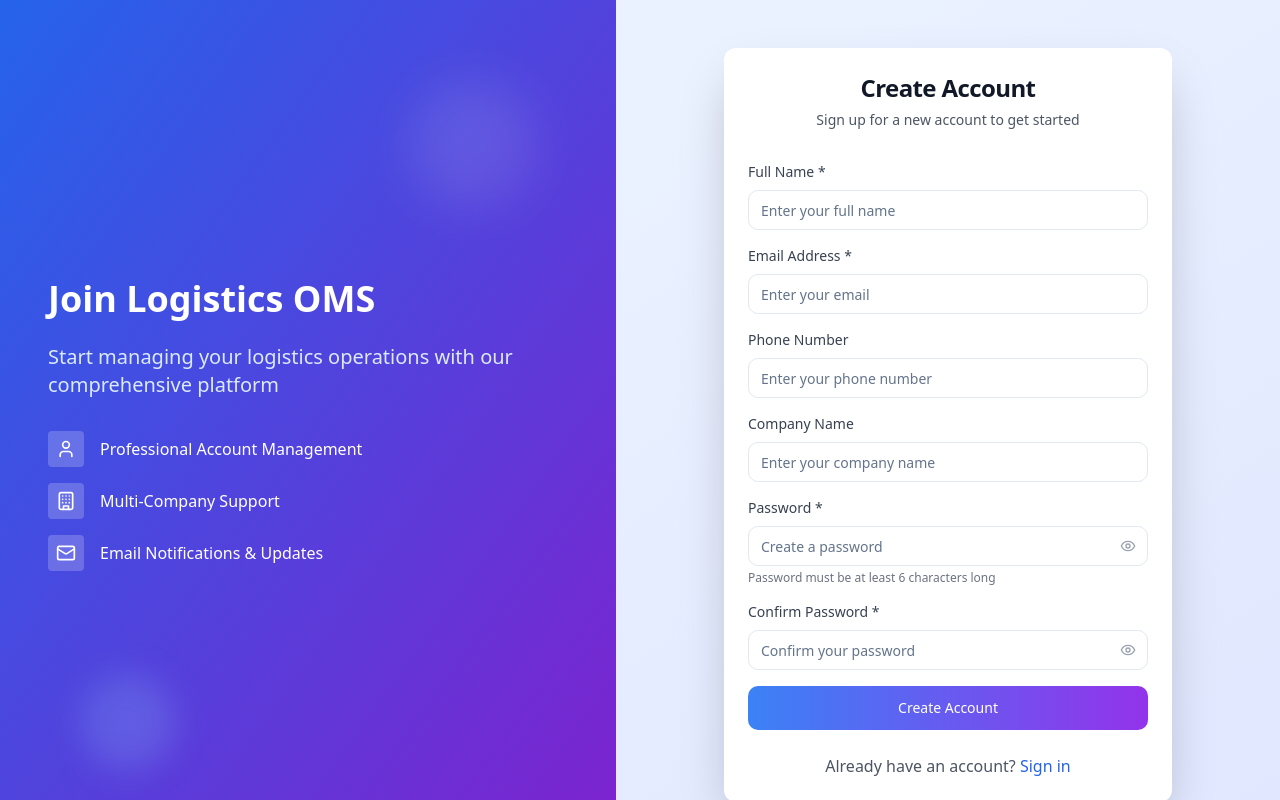
Test: Register Component - All Elements and Buttons › Submit Button Tests › shows loading state when submitting
Note: Fill form with valid data
Step 1. Type "John Doe" into the field with placeholder "Enter your full name" → [948, 210], box 748,190 -> 1148,230
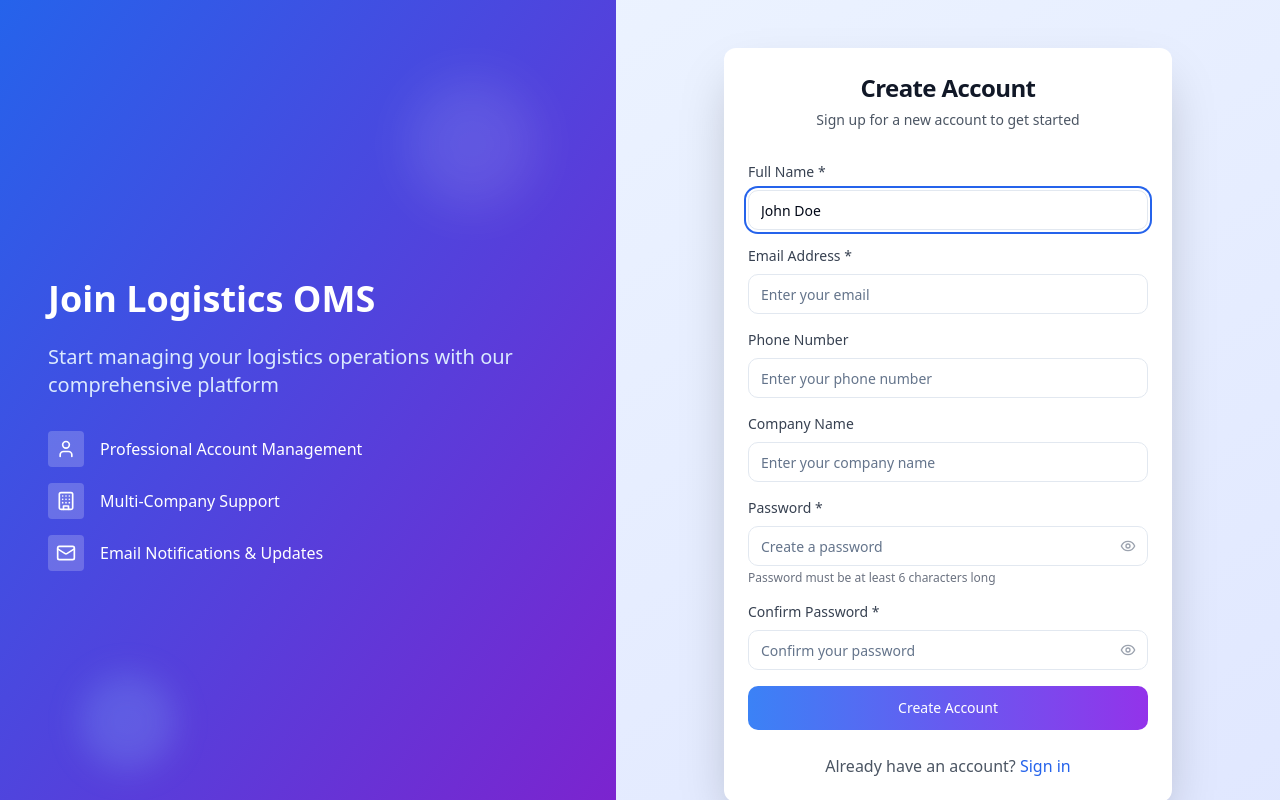
Step 2. Type "john@example.com" into the field with placeholder "Enter your email" → [948, 294], box 748,274 -> 1148,314
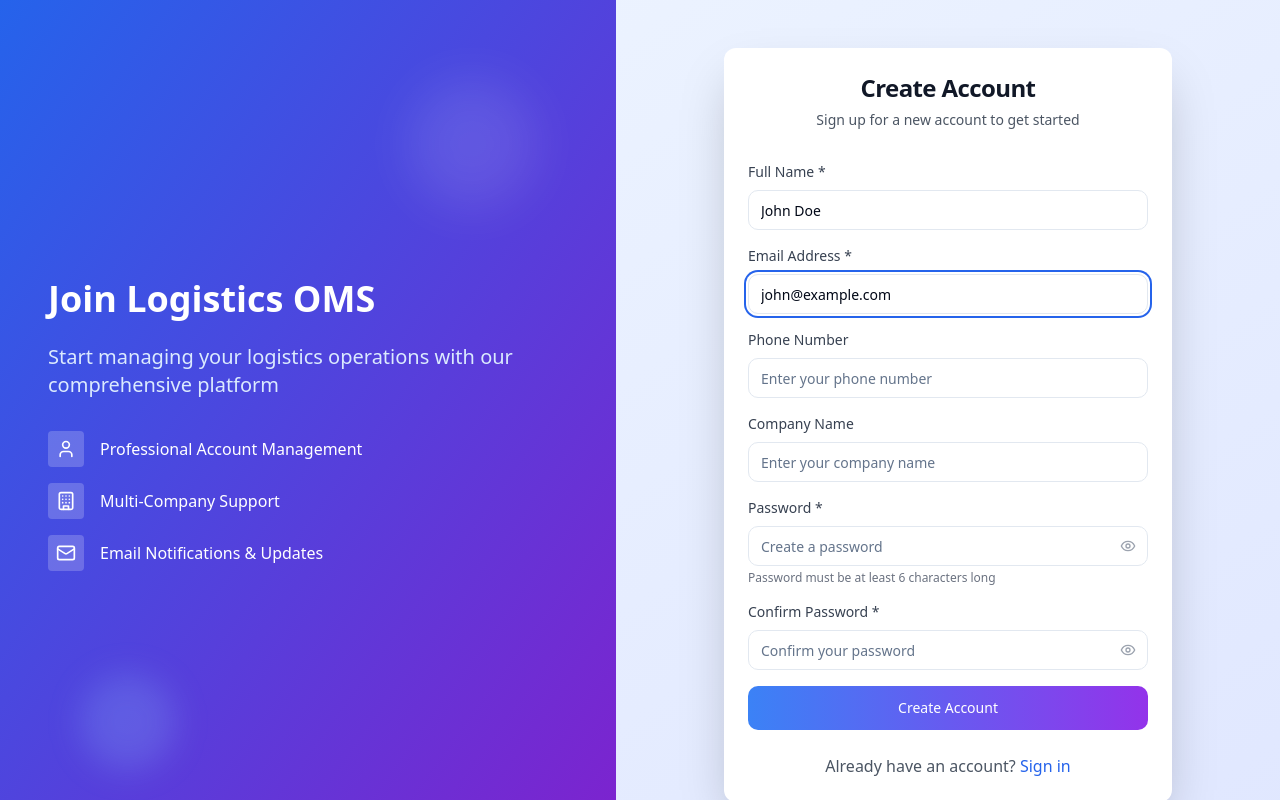
Step 3. Type "password123" into the password field with placeholder "Create a password" → [948, 546], box 748,526 -> 1148,566
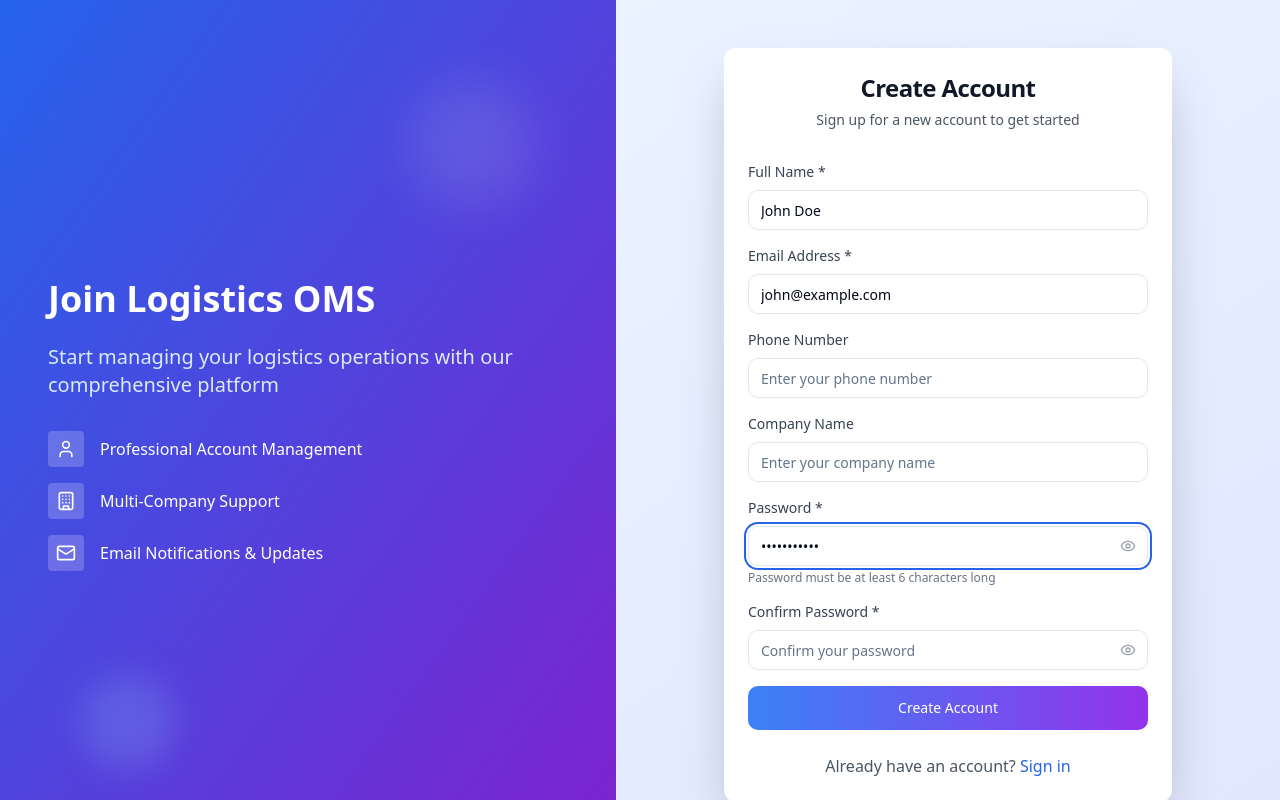
Step 4. Type "password123" into the password field with placeholder "Confirm your password" → [948, 650], box 748,630 -> 1148,670
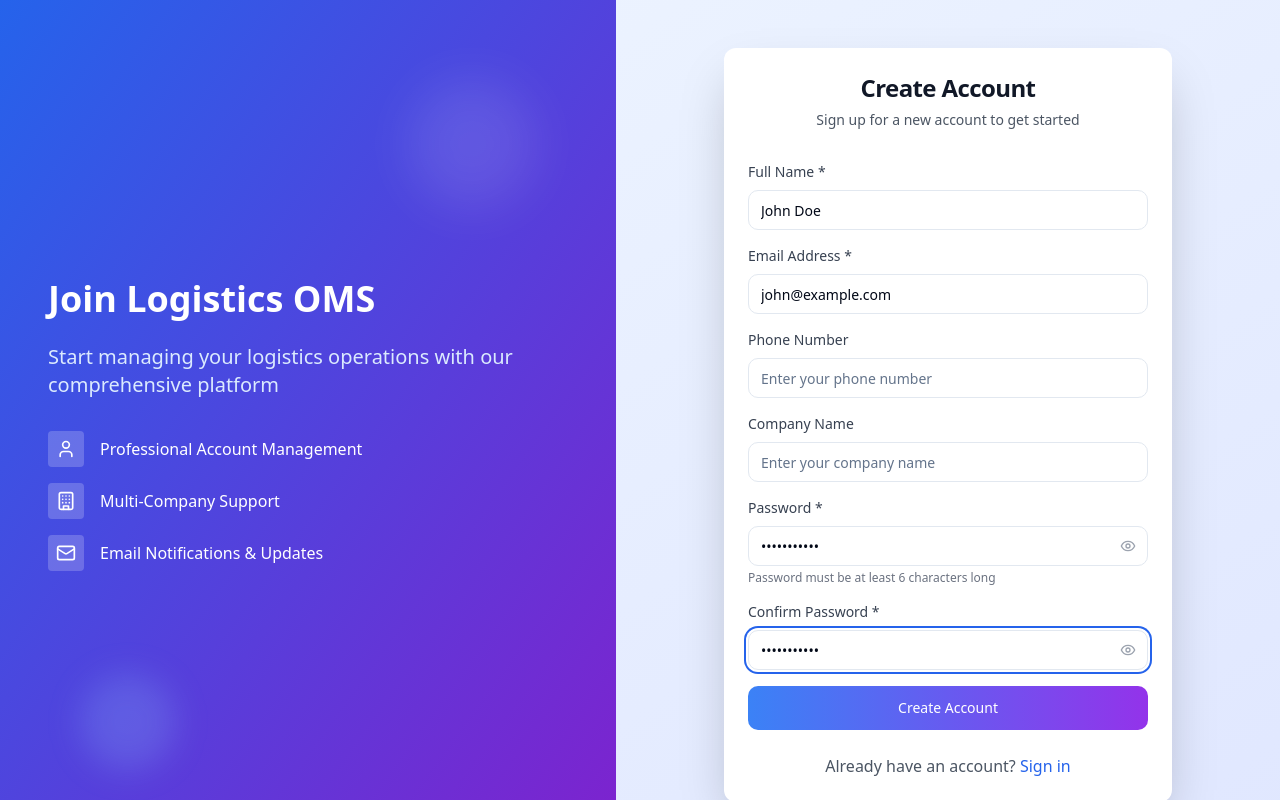
Step 5. Click the button "Create Account" → [948, 708], box 748,686 -> 1148,730
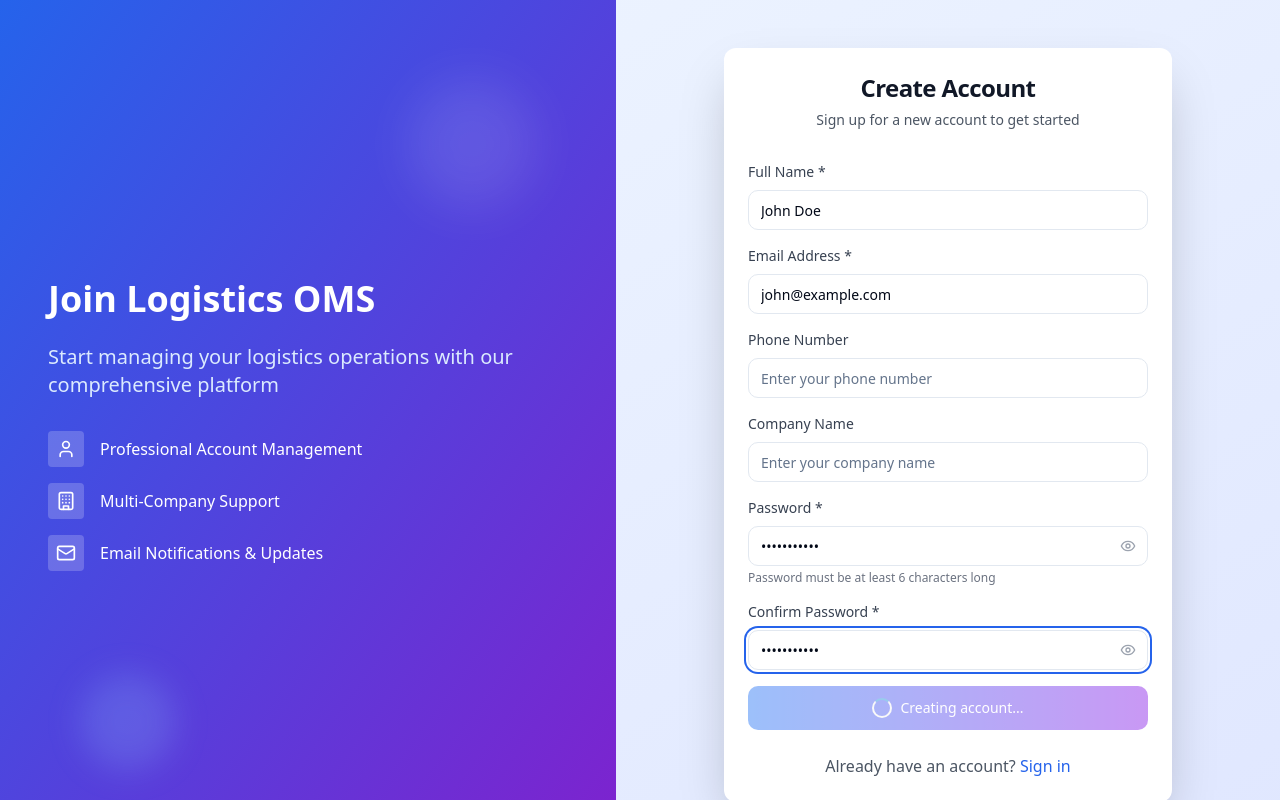
Now the button named "Create Account" is disabled, box 748,686 -> 1148,730
Now the text "Creating account..." is shown, box 872,698 -> 1024,718
